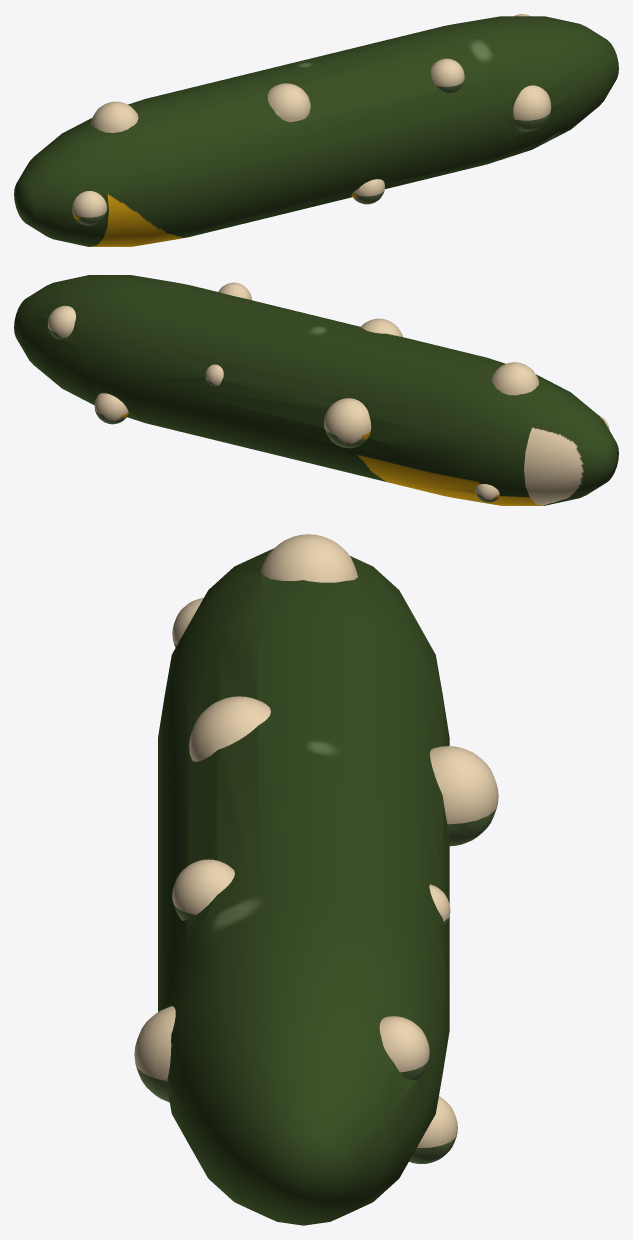
The model's file is pickle 1.fbx.
The picture shows the model from 3 angles, top to bottom: view 1: azimuth 30°, elevation 25°; view 2: azimuth 150°, elevation 25°; view 3: azimuth 270°, elevation 25°; orthographic projection. The views are drawn at different scales.
Parts seen in each view (by area): view 1: polySurface51; view 2: polySurface51; view 3: polySurface51.
Part boxes in pixels (box(x1,y1,x2,y2)): polySurface51: box(14, 14, 618, 246); polySurface51: box(14, 275, 618, 505); polySurface51: box(134, 534, 498, 1225).
Size of the model in its own units: 0.3663 by 0.083 by 0.0968.
